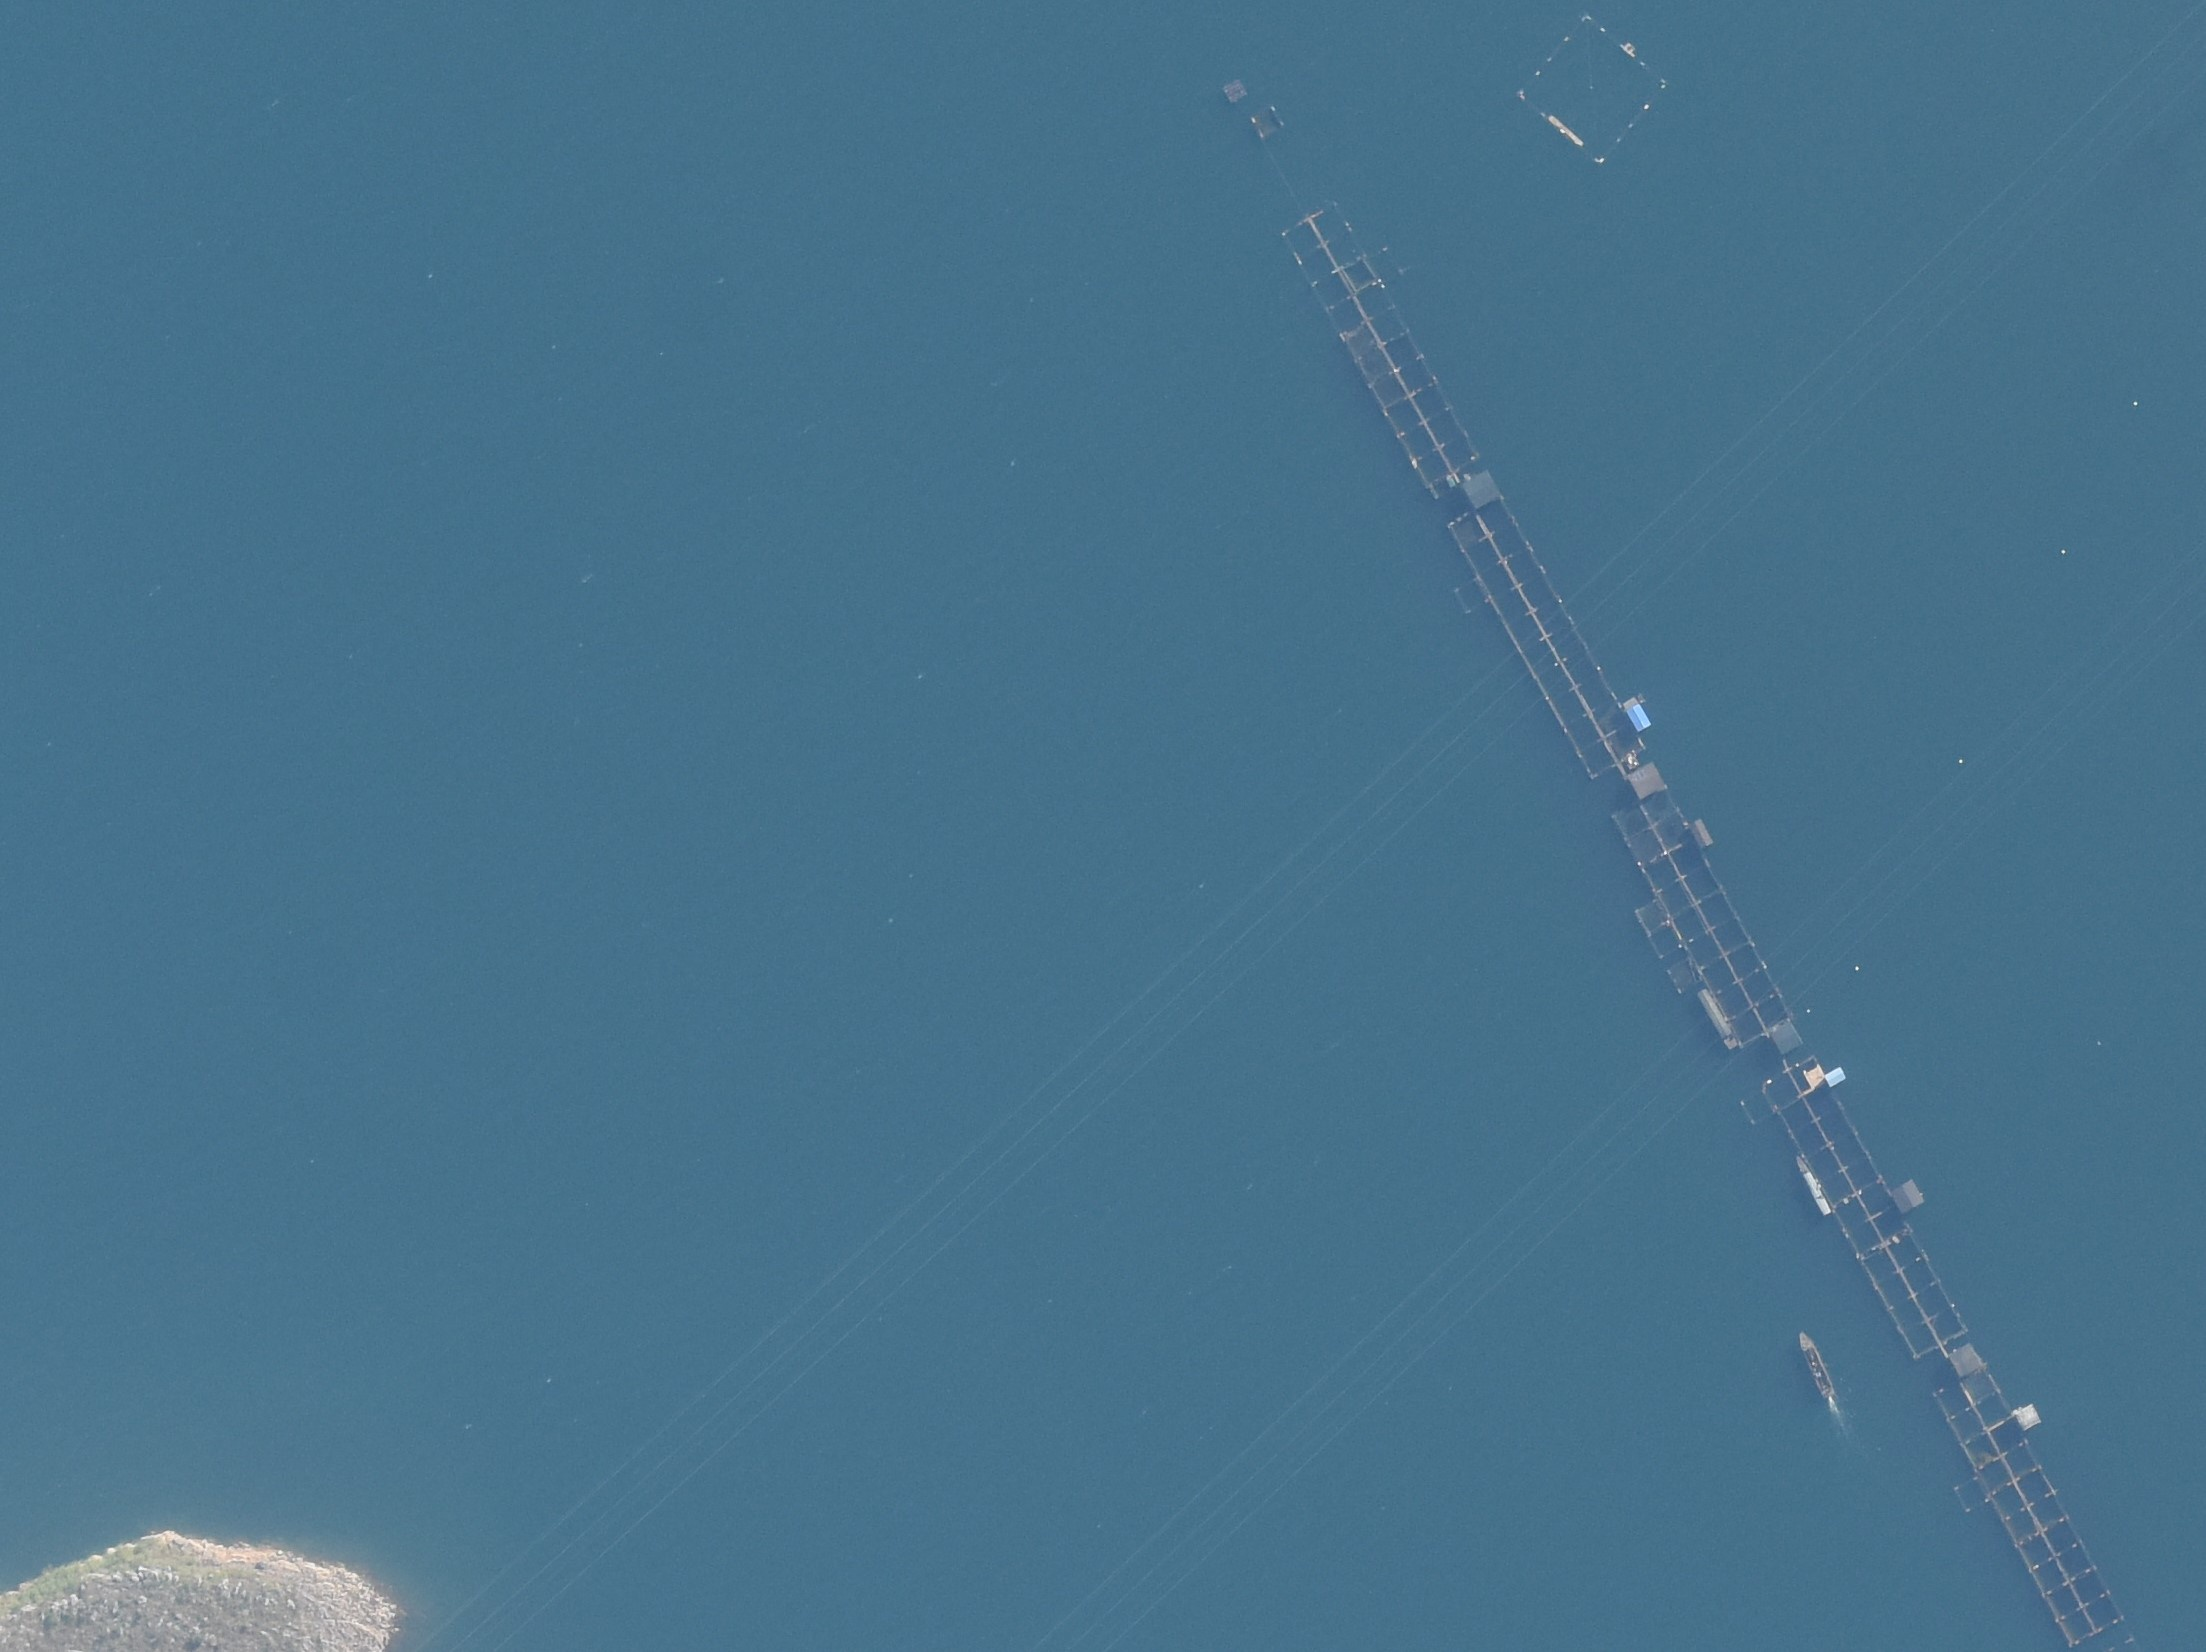cultivation-mesh-cage: (1741, 1052, 1968, 1357), (1281, 202, 1481, 494), (1450, 492, 1646, 786), (1933, 1369, 2122, 1644), (1611, 789, 1790, 1047), (1515, 7, 1664, 169), (1251, 103, 1278, 136)
prefabricated-house: (1697, 987, 1739, 1050), (1460, 467, 1502, 509), (1627, 761, 1667, 799), (1770, 1019, 1804, 1056), (1892, 1179, 1926, 1215), (1950, 1343, 1982, 1379), (1624, 697, 1651, 732), (2014, 1403, 2041, 1432), (1688, 819, 1715, 848), (1804, 1065, 1823, 1090), (1826, 1066, 1846, 1087)
ship: (1798, 1329, 1843, 1409), (1798, 1150, 1834, 1216)
